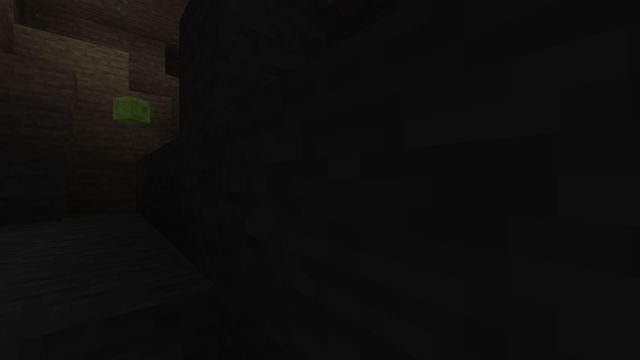slimes: (117, 94, 146, 124)
